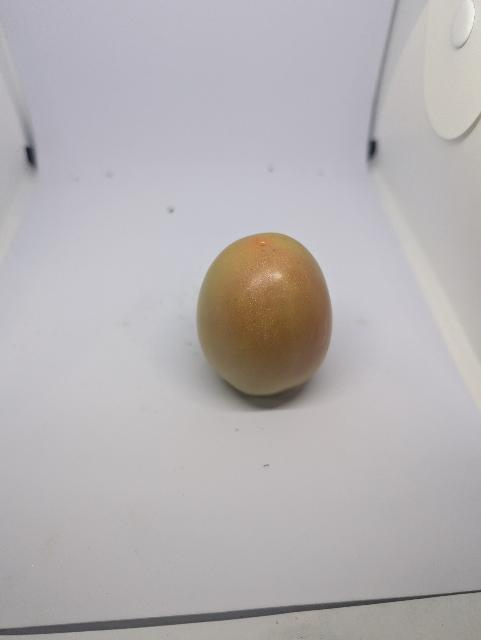turning: (197, 233, 333, 395)
